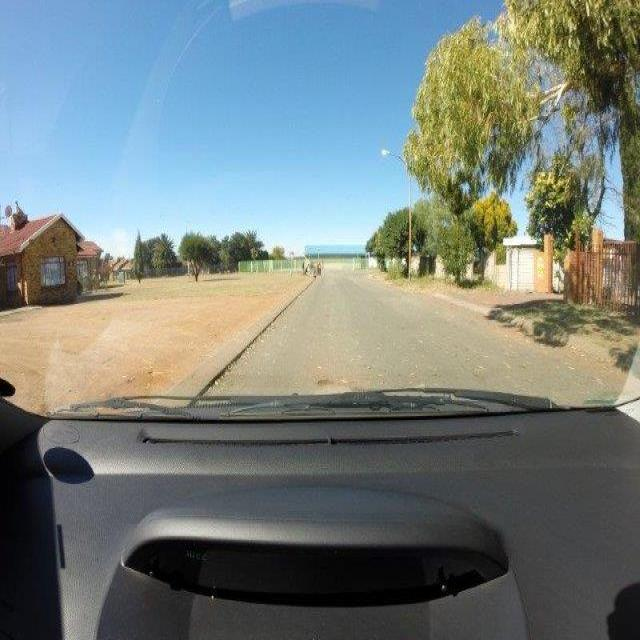lubang: (312, 367, 351, 392)
